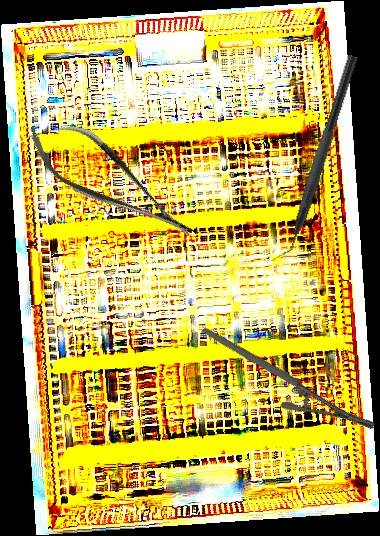Chopper: (269, 50, 359, 268)
Micro Scissor: (15, 101, 206, 261)
Needle Holder: (200, 283, 379, 473)
